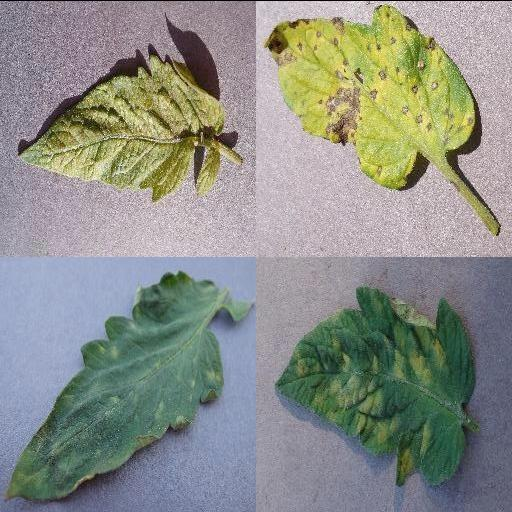Leaf Mold: (3, 268, 231, 501), (275, 285, 475, 485)
Septoria: (266, 4, 478, 190)
Spider Mites: (18, 55, 224, 201)
